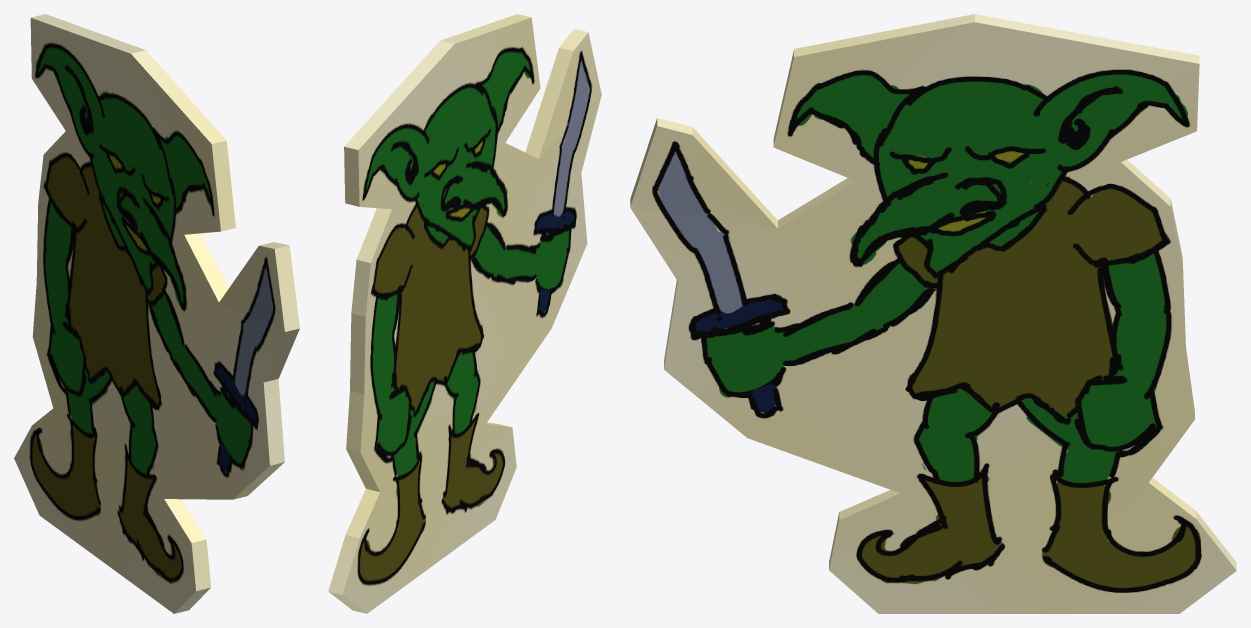
The model's file is Goblin.fbx.
3 renders of one model, left to right at view 1: azimuth 30°, elevation 25°; view 2: azimuth 150°, elevation 25°; view 3: azimuth 270°, elevation 25°, orthographic. The views are drawn at different scales.
Visible parts, largest first — view 1: Goblin.002; view 2: Goblin.002; view 3: Goblin.002.
Part boxes in pixels (x1,y1,x2,y2): Goblin.002: (14,14,299,613); Goblin.002: (328,14,601,613); Goblin.002: (630,14,1236,613).
Bounding box in the file's own units: 5.19 × 156 × 145.
Materials: 1 (1 with a texture image).
